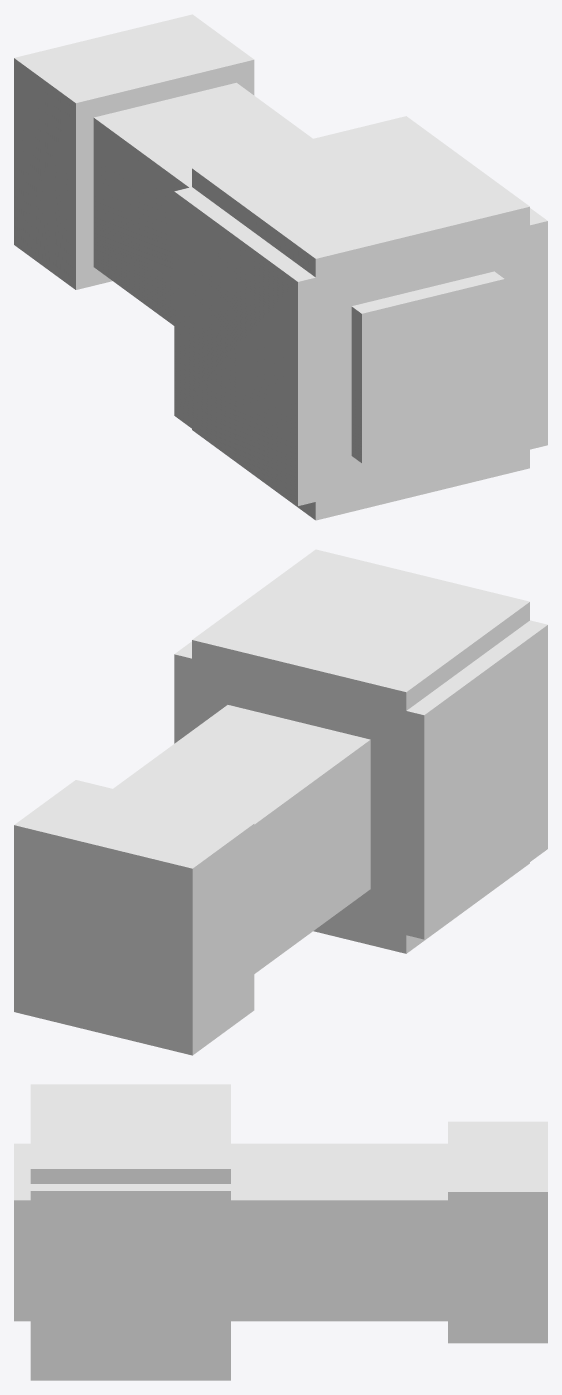
The model's file is arm_arm.obj.
3 renders of one model, top to bottom at view 1: azimuth 30°, elevation 25°; view 2: azimuth 150°, elevation 25°; view 3: azimuth 270°, elevation 25°, orthographic. The views are drawn at different scales.
Visible parts, largest first — view 1: arm1, arm1.001, arm1.002, arm1.003; view 2: arm1.003, arm1, arm1.001, arm1.002; view 3: arm1.002, arm1.001, arm1.003, arm1.
Part boxes in pixels (x1,y1,x2,y2): arm1: (192,116,529,520); arm1.001: (174,187,547,505); arm1.002: (93,82,504,463); arm1.003: (14,14,254,289); arm1.003: (14,780,254,1055); arm1: (192,549,529,953); arm1.001: (174,620,547,939); arm1.002: (113,705,370,973); arm1.002: (14,1143,447,1321); arm1.001: (30,1184,230,1372); arm1.003: (448,1121,547,1343); arm1: (30,1084,230,1380).
Bounding box in the file's own units: 0.875 × 0.875 × 2.
